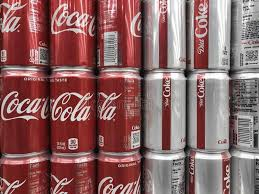can: (49, 69, 95, 154), (0, 69, 46, 154), (97, 67, 141, 151), (142, 70, 186, 149), (188, 70, 230, 149), (47, 0, 96, 66), (96, 0, 142, 66), (187, 0, 232, 67), (0, 0, 44, 66), (144, 0, 186, 68), (232, 70, 259, 150), (187, 150, 231, 194), (0, 156, 49, 194), (96, 154, 142, 194), (142, 152, 184, 194), (48, 154, 94, 192), (233, 0, 258, 68), (232, 152, 259, 194)
